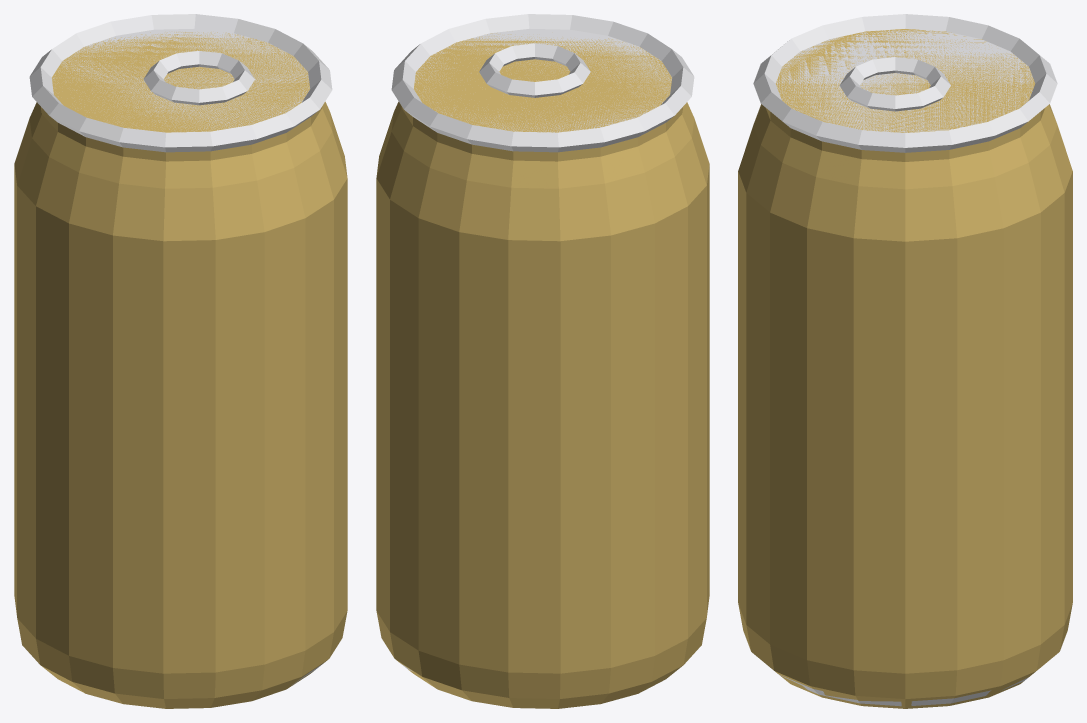
File: beer.glb
3 renders of one model, left to right at view 1: azimuth 30°, elevation 25°; view 2: azimuth 150°, elevation 25°; view 3: azimuth 270°, elevation 25°, orthographic.
Visible parts, largest first — view 1: beer; view 2: beer; view 3: beer.
Part boxes in pixels (x1=…): beer: x1=14, y1=14, x2=347, y2=708; beer: x1=376, y1=14, x2=709, y2=708; beer: x1=738, y1=14, x2=1072, y2=708.
Bounding box in the file's own units: 0.066 × 0.126 × 0.066.
